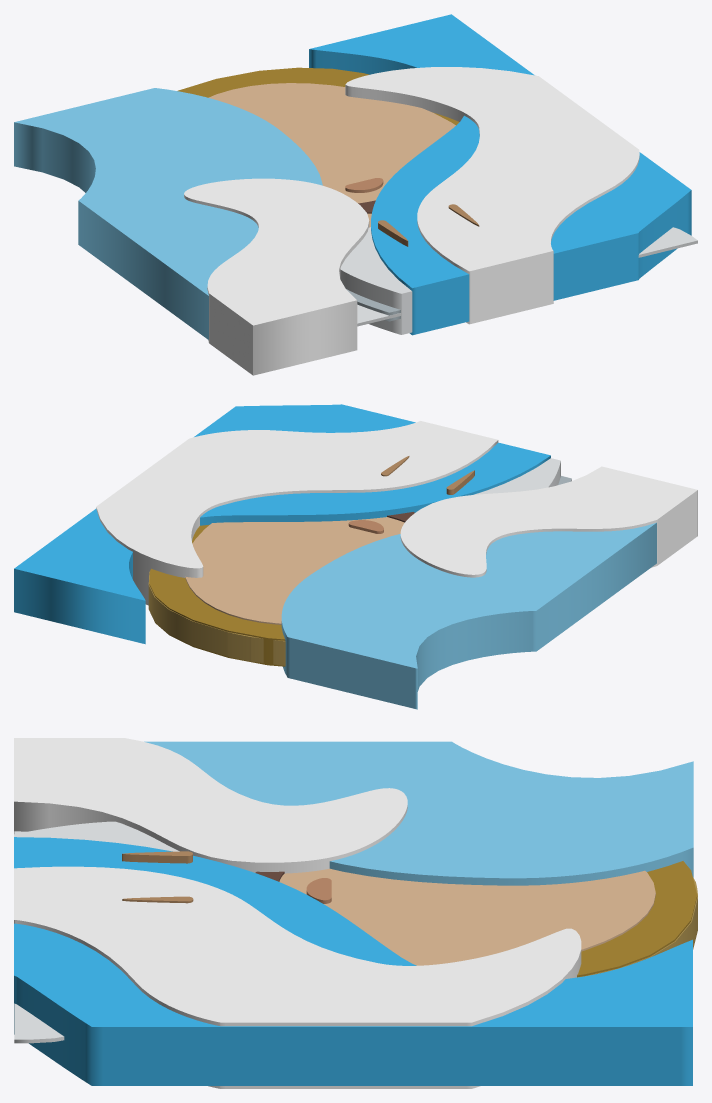
The model's file is emoji_u1f9d6_1f3fc_200d_2642.glb.
The picture shows the model from 3 angles, top to bottom: view 1: azimuth 30°, elevation 25°; view 2: azimuth 150°, elevation 25°; view 3: azimuth 270°, elevation 25°; orthographic projection. The views are drawn at different scales.
Parts seen in each view (by area): view 1: emoji_u1f9d6_1f3fc_200d_2642; view 2: emoji_u1f9d6_1f3fc_200d_2642; view 3: emoji_u1f9d6_1f3fc_200d_2642.
Boxes of the visible parts, left/top/right/bottom form: emoji_u1f9d6_1f3fc_200d_2642: left=14, top=14, right=697, bottom=375; emoji_u1f9d6_1f3fc_200d_2642: left=14, top=404, right=697, bottom=709; emoji_u1f9d6_1f3fc_200d_2642: left=14, top=738, right=697, bottom=1088.
Size of the model in its own units: 0.0334 by 0.004 by 0.0336.
